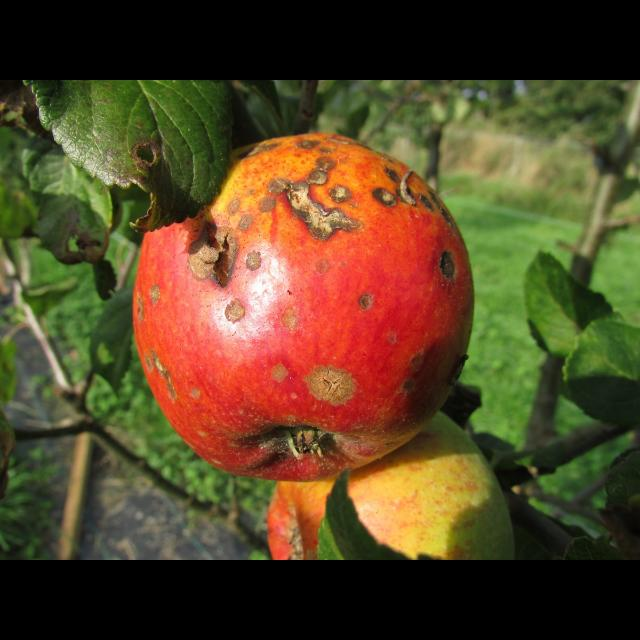Apel Tidak Segar: (113, 136, 503, 496)
